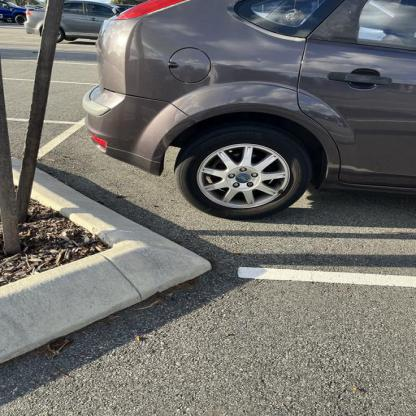Tire: (175, 127, 312, 220)
